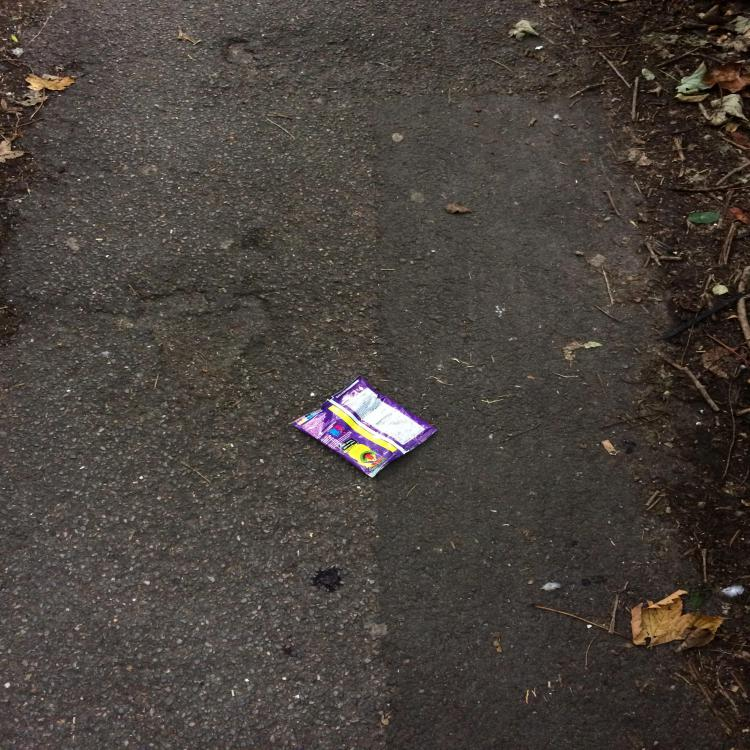Cigarette: (602, 440, 618, 455)
